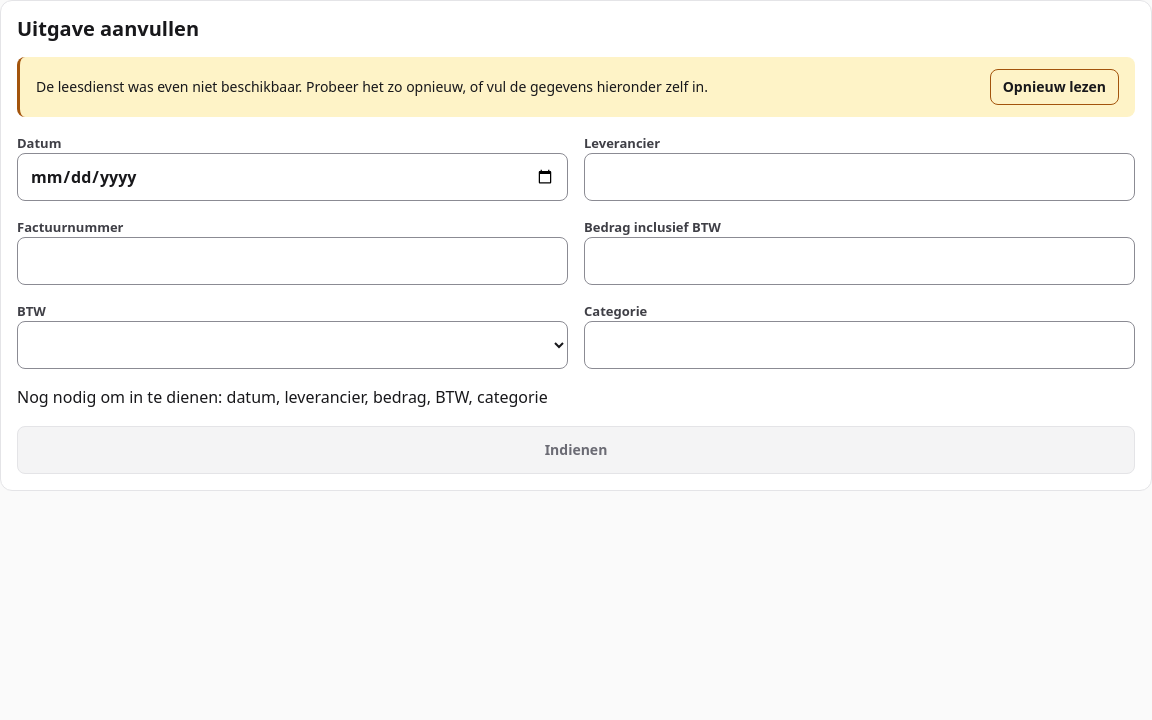
a failed reading — ADR-095 › shows the server's sentence when reading again is refused
Click the button with test id "expense-read-again".
click(1054, 87)  # box [990,69,1119,105]
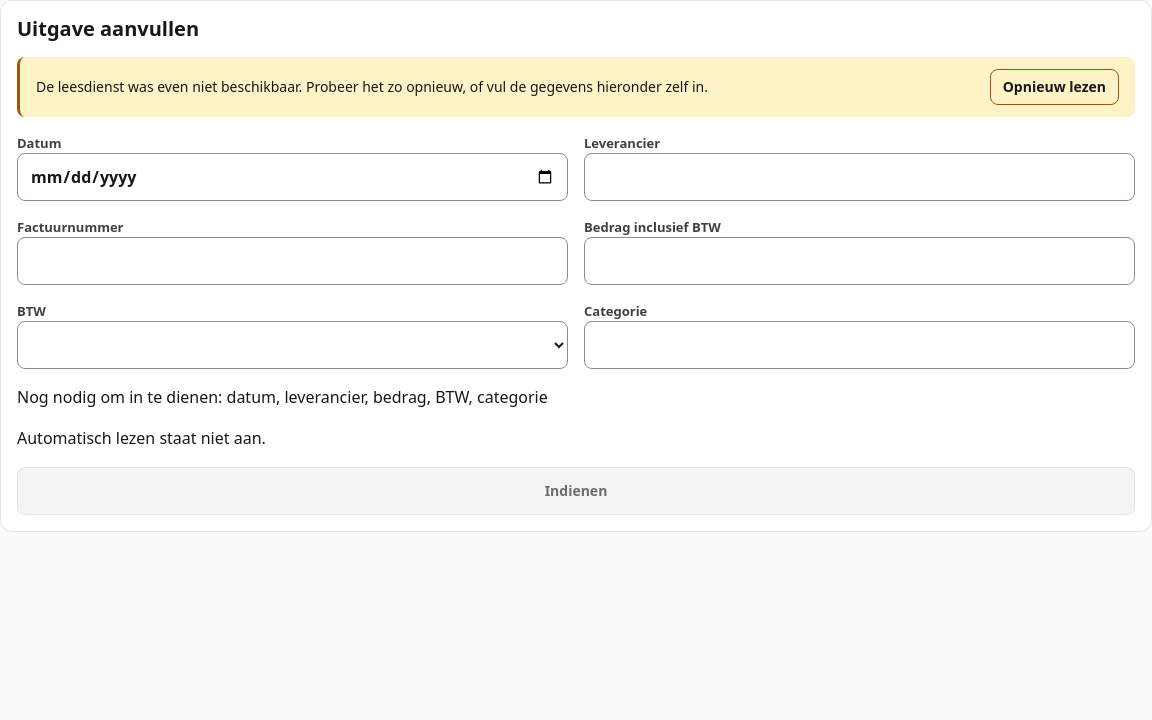
Expected: the message with test id "expense-problem" shows "staat niet aan", [17,427,266,449]
